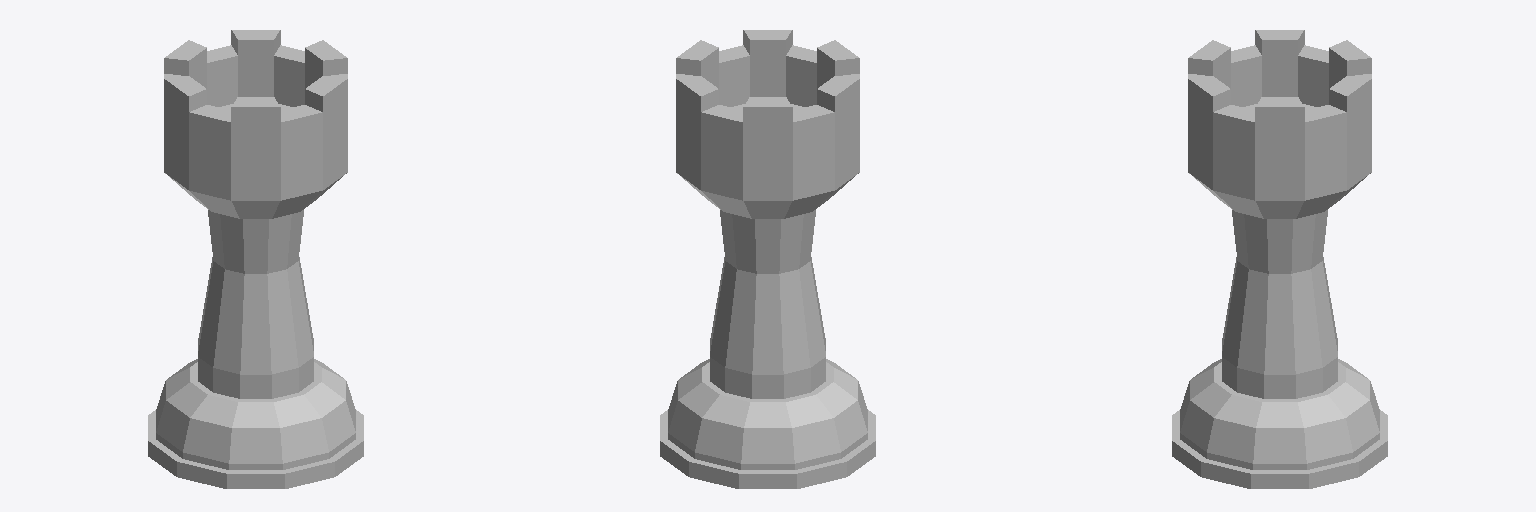
File: black.obj
3 renders of one model, left to right at view 1: azimuth 30°, elevation 25°; view 2: azimuth 150°, elevation 25°; view 3: azimuth 270°, elevation 25°, orthographic.
Bounding box in the file's own units: 0.1256 × 0.24 × 0.1256.